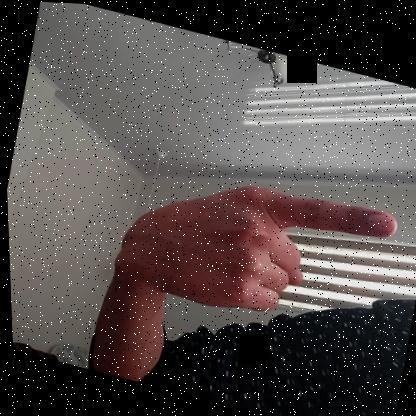G: (106, 145, 403, 347)
